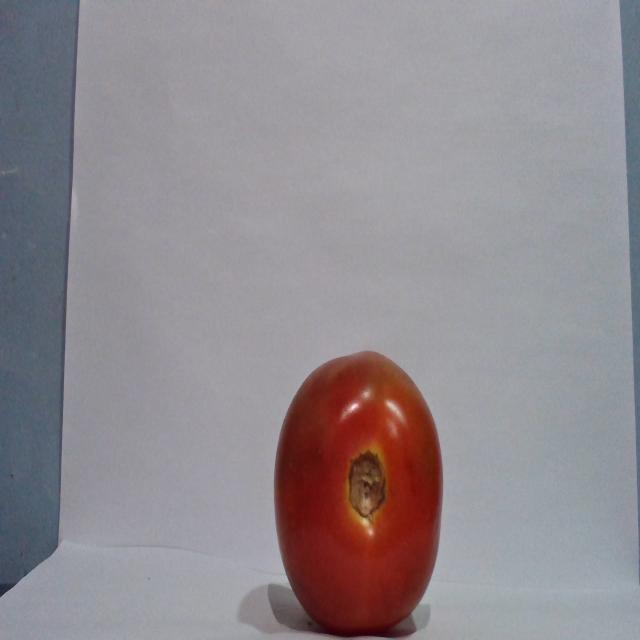Red: (272, 348, 444, 634)
